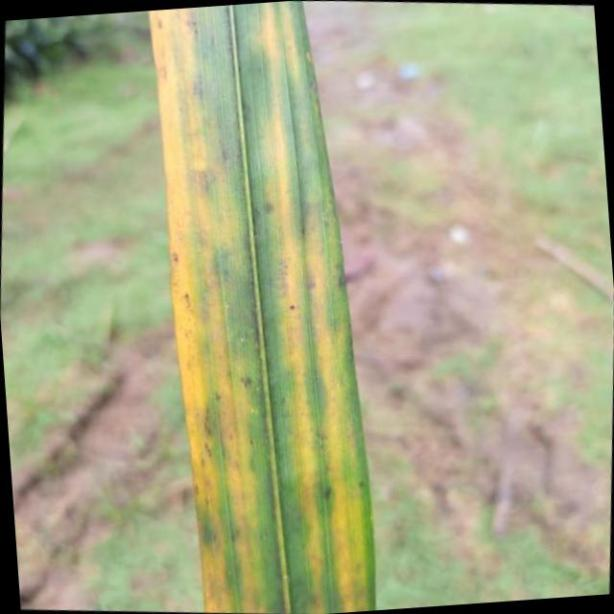Megnesium: (148, 7, 374, 614)
